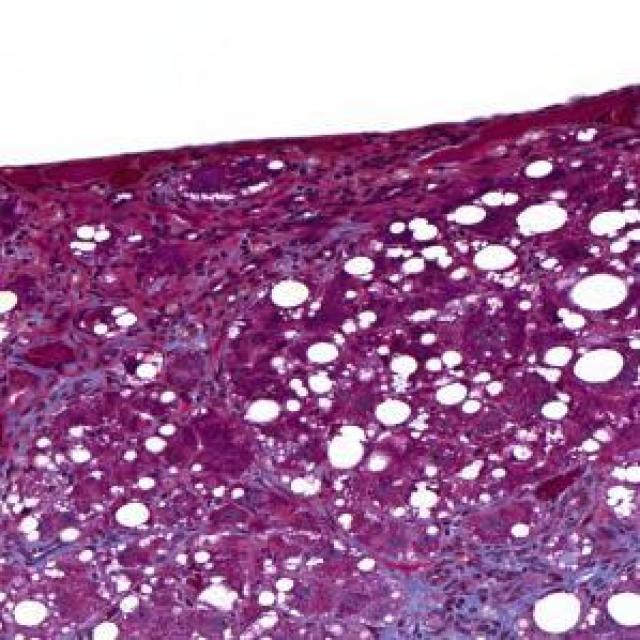fibrosis: (396, 544, 531, 629)
